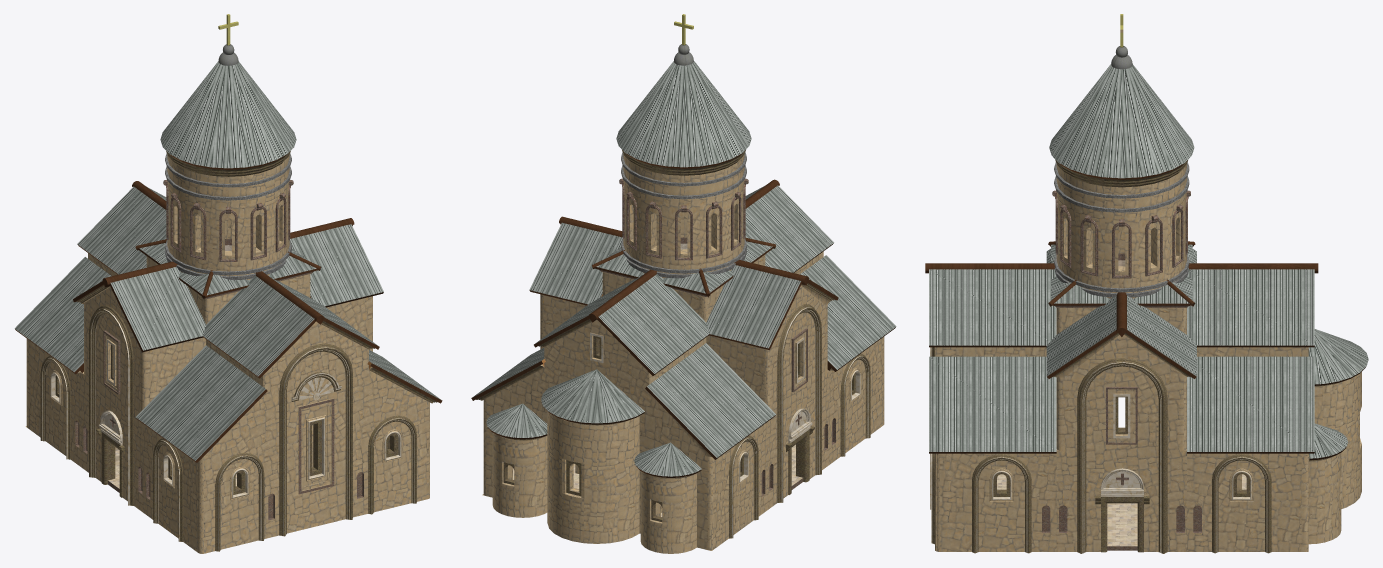
Rendered from georgianchurch-model.fbx.
3 renders of one model, left to right at view 1: azimuth 30°, elevation 25°; view 2: azimuth 150°, elevation 25°; view 3: azimuth 270°, elevation 25°, orthographic. The views are drawn at different scales.
Visible parts, largest first — view 1: georgianchurch-model; view 2: georgianchurch-model; view 3: georgianchurch-model.
Part boxes in pixels (x1,y1,x2,y2): georgianchurch-model: (14,14,442,553); georgianchurch-model: (471,14,896,553); georgianchurch-model: (925,14,1368,553).
Size of the model in its own units: 1262 by 2183 by 1839.
